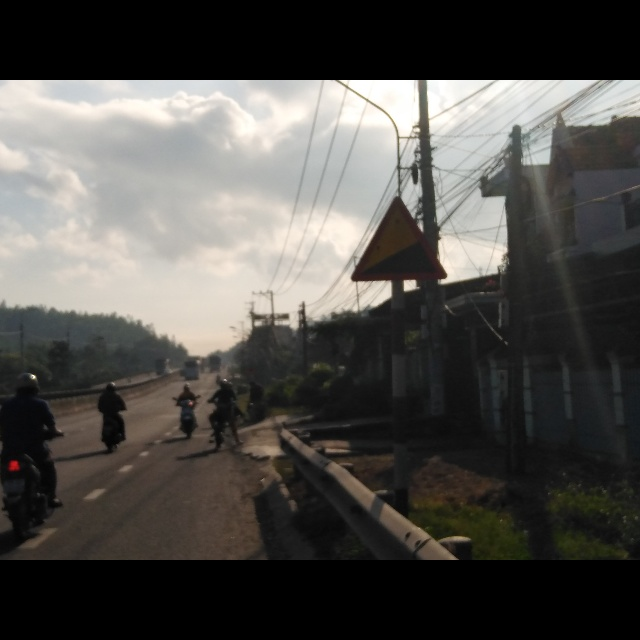Dốc lên nguy hiểm: (349, 192, 449, 282)
